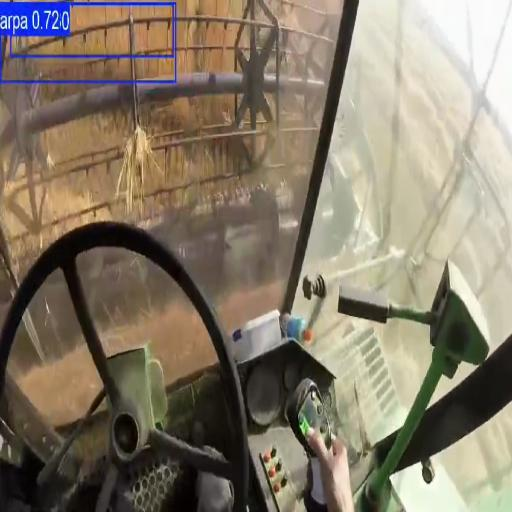arpa: (0, 0, 338, 271), (338, 32, 426, 185)
